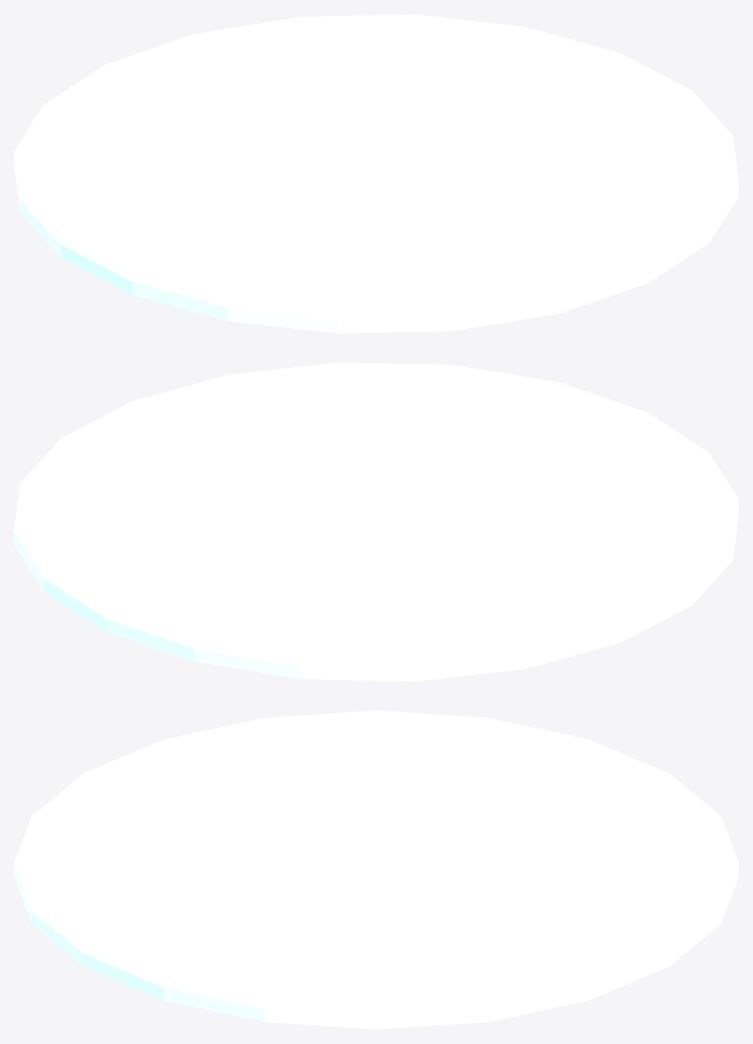
File: obstacle_portal_disc.glb
3 views of the same model, one above another, from view 1: azimuth 30°, elevation 25°; view 2: azimuth 150°, elevation 25°; view 3: azimuth 270°, elevation 25° (orthographic).
Parts seen in each view (by area): view 1: portal_disc; view 2: portal_disc; view 3: portal_disc.
Boxes of the visible parts, left/top/right/bottom form: portal_disc: left=14, top=14, right=738, bottom=333; portal_disc: left=14, top=362, right=738, bottom=681; portal_disc: left=14, top=710, right=738, bottom=1029.
Size of the model in its own units: 2.56 by 0.05 by 2.56.
